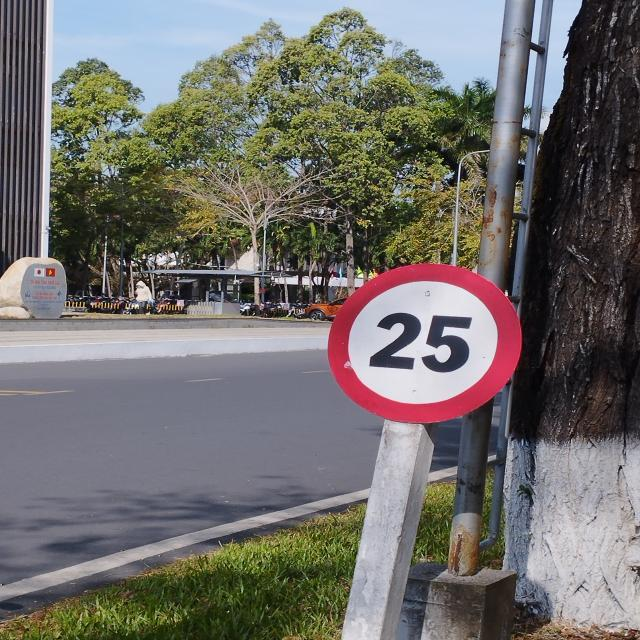Tre_Em: (328, 262, 522, 424)
